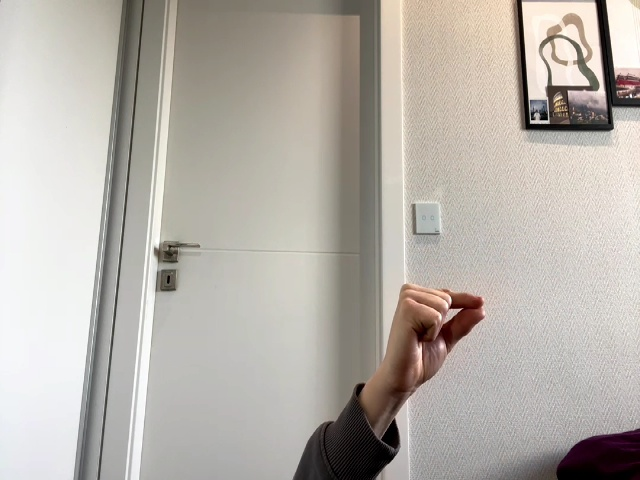P: (386, 284, 485, 391)
